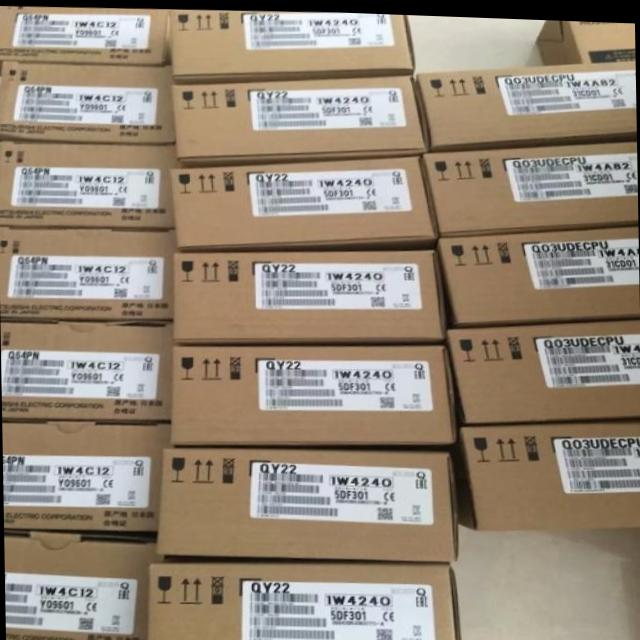box: (155, 446, 458, 558), (169, 341, 456, 442), (168, 151, 438, 251), (173, 247, 446, 343), (147, 559, 461, 640), (170, 72, 428, 165), (422, 135, 637, 233), (451, 416, 640, 527), (435, 220, 638, 322), (414, 56, 635, 148), (446, 314, 640, 418), (3, 417, 173, 529), (168, 9, 415, 83), (0, 317, 178, 419), (5, 529, 163, 640), (0, 225, 182, 317), (0, 138, 182, 226), (0, 61, 175, 141), (0, 6, 170, 77), (535, 16, 634, 61)
